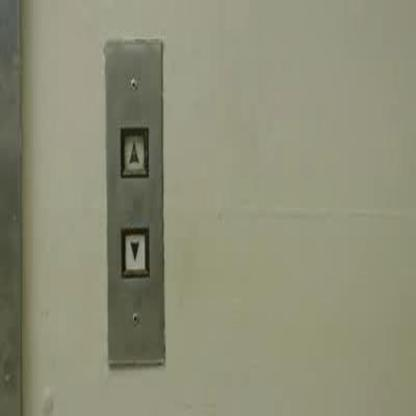up: (118, 122, 150, 180)
updown: (119, 222, 150, 280)
